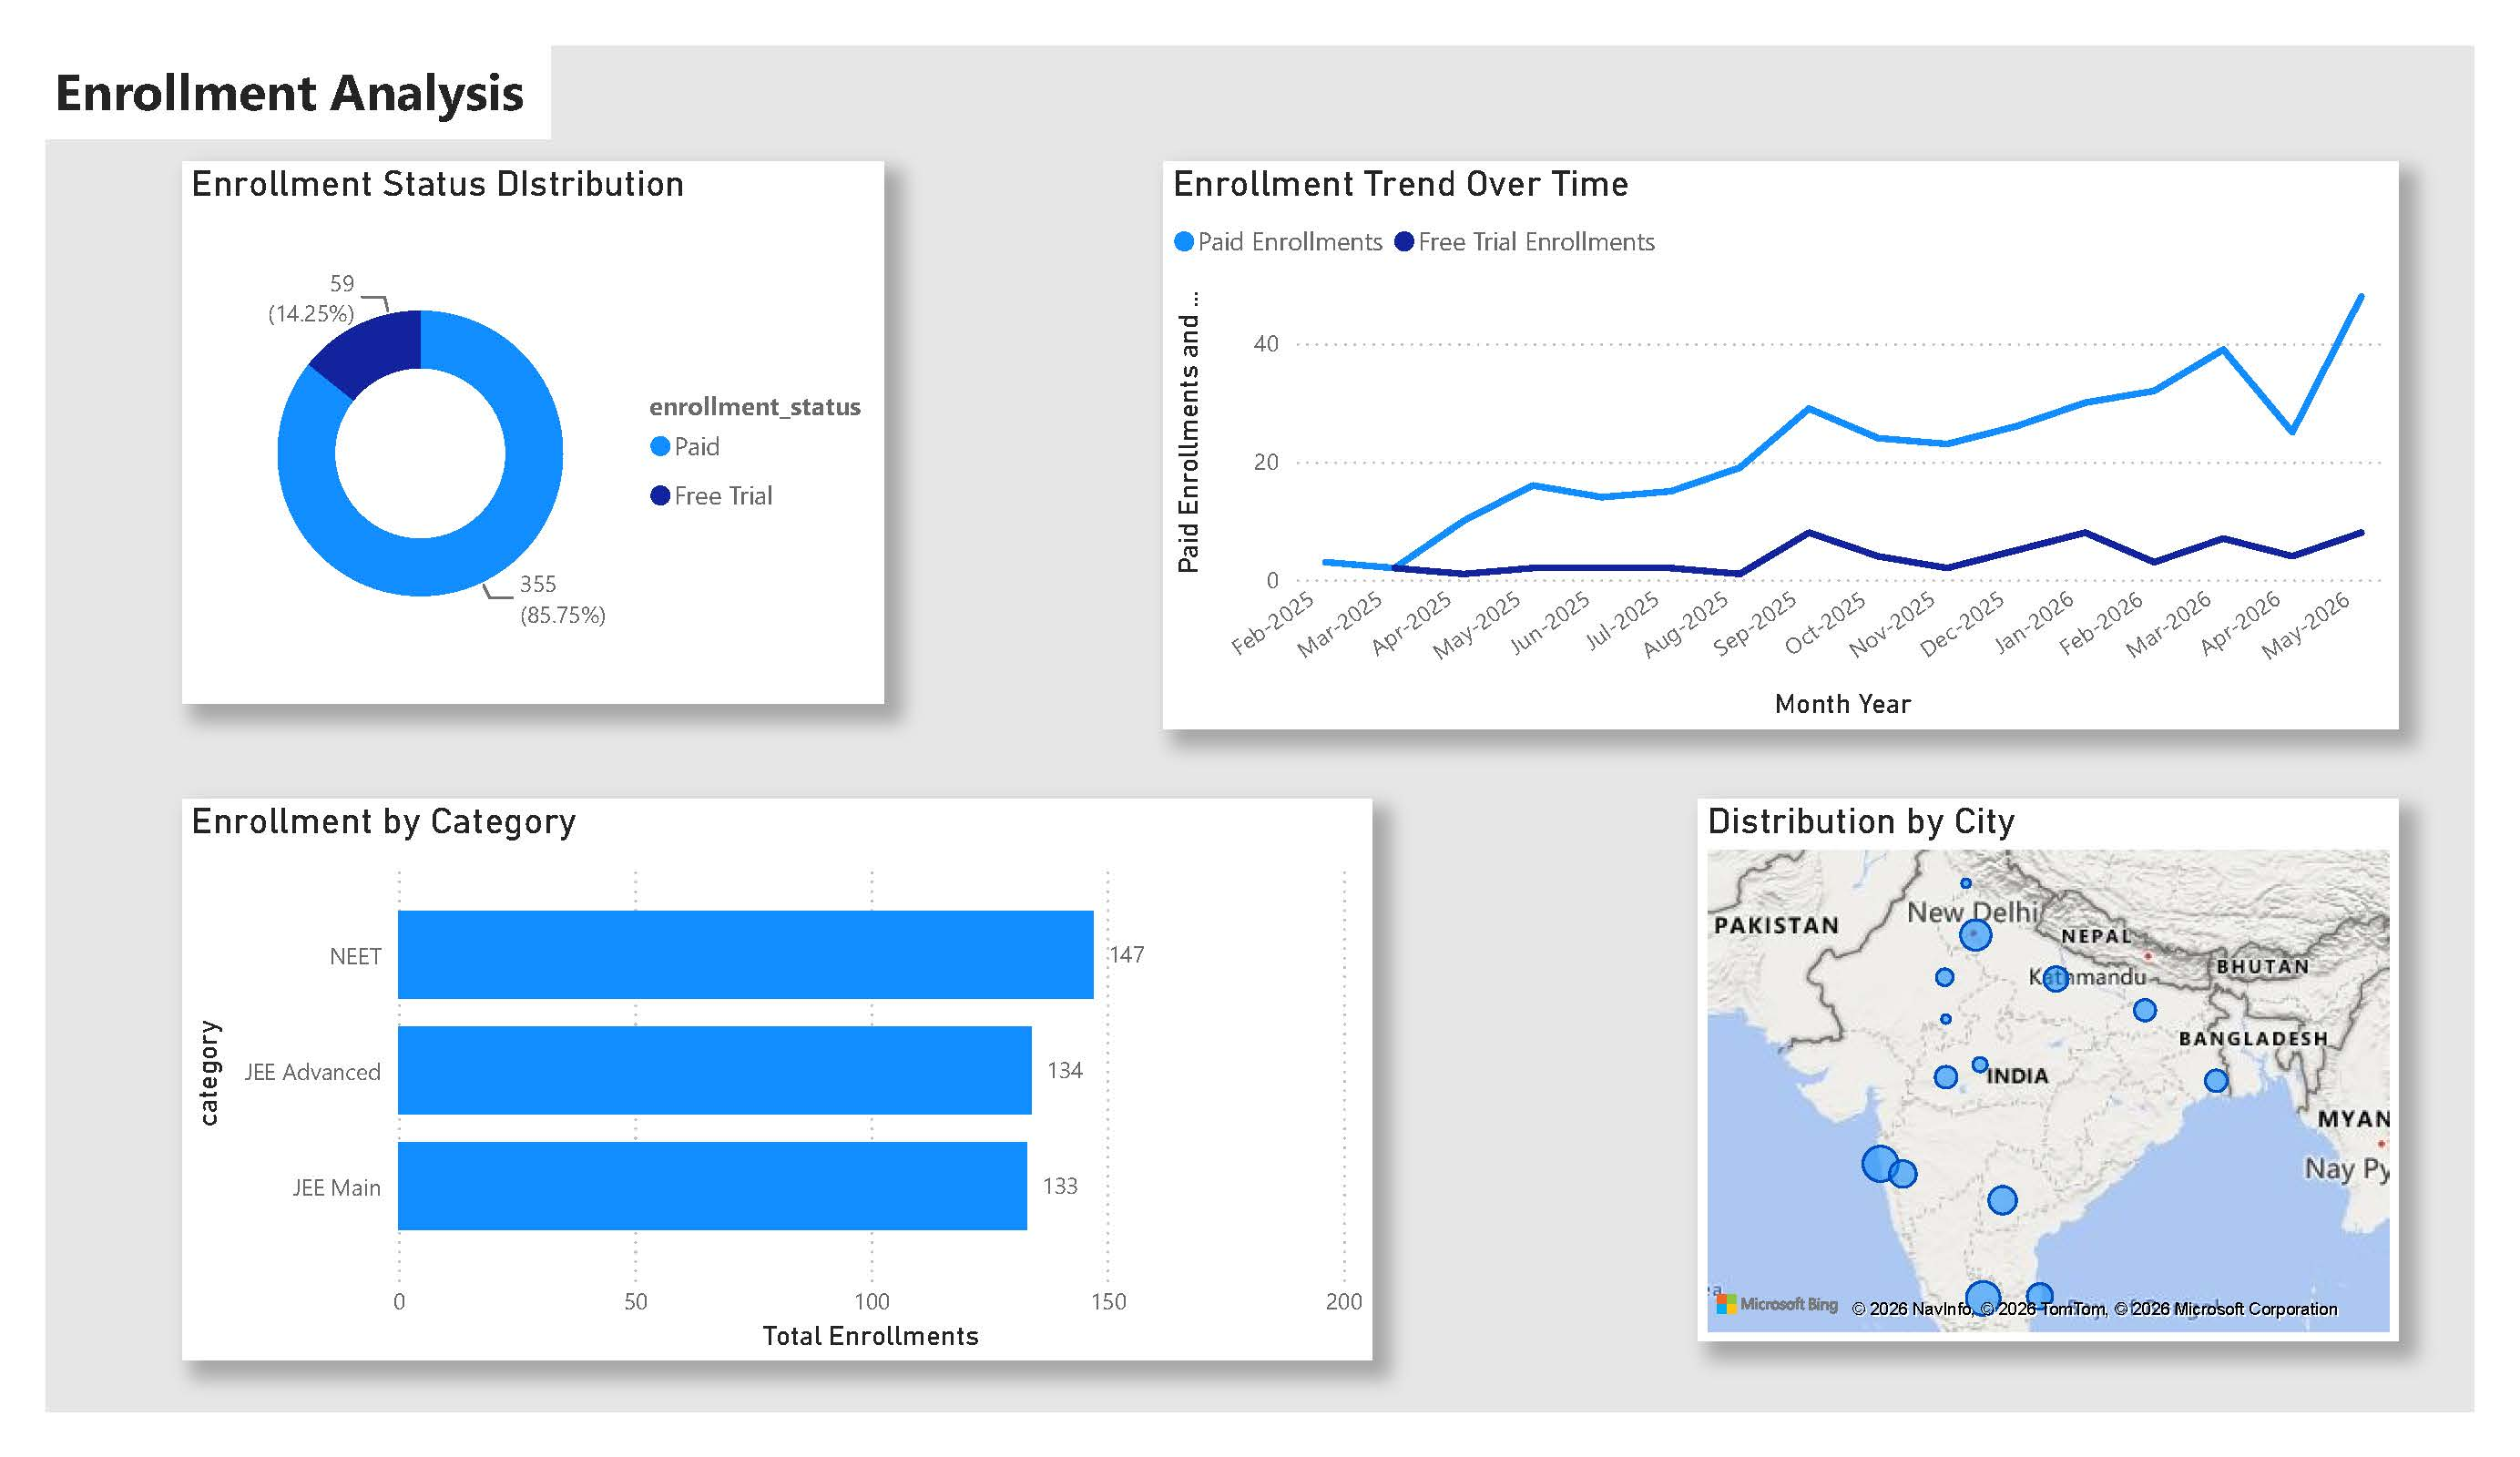

What the dashboard file says about the page in this screenshot:
{"tool":"powerbi","page":{"name":"Enrollment Analysis","canvas":[1280,720],"ordinal":3},"visuals":[{"type":"donutChart","title":"Enrollment Status DIstribution","fields":{"Category":["edtech enrollments.enrollment_status"],"Y":["edtech enrollments.Total Enrollments"]},"box":[72,61.3,369.6,286],"z":0},{"type":"clusteredBarChart","title":"Enrollment by Category","fields":{"Y":["edtech enrollments.Total Enrollments"],"Category":["edtech courses.category"]},"box":[72,396.8,627.4,295.7],"z":1000},{"type":"map","title":"Distribution by City","fields":{"Category":["edtech students.city"],"Size":["edtech enrollments.Total Enrollments"]},"box":[870.5,396.8,369.6,286],"z":2000},{"type":"lineChart","title":"Enrollment Trend Over Time","fields":{"Y":["edtech enrollments.Paid Enrollments","edtech enrollments.Free Trial Enrollments"],"Category":["Date Table.Month Year"]},"box":[589.4,61.3,650.7,298.6],"z":3000},{"type":"textbox","box":[0,0,265.5,48.6],"z":4000}]}

Visuals, with their boxes on the page's 1280x720 design canvas (x1, y1, x2, y2). These are canvas units, not pixel positions in the 2520x1457 screenshot, which may show the page scaled, cropped or inside an application window:
"Enrollment Status DIstribution" donutChart: 72, 61, 442, 347
"Enrollment by Category" clusteredBarChart: 72, 397, 699, 692
"Distribution by City" map: 870, 397, 1240, 683
"Enrollment Trend Over Time" lineChart: 589, 61, 1240, 360
textbox: 0, 0, 266, 49
